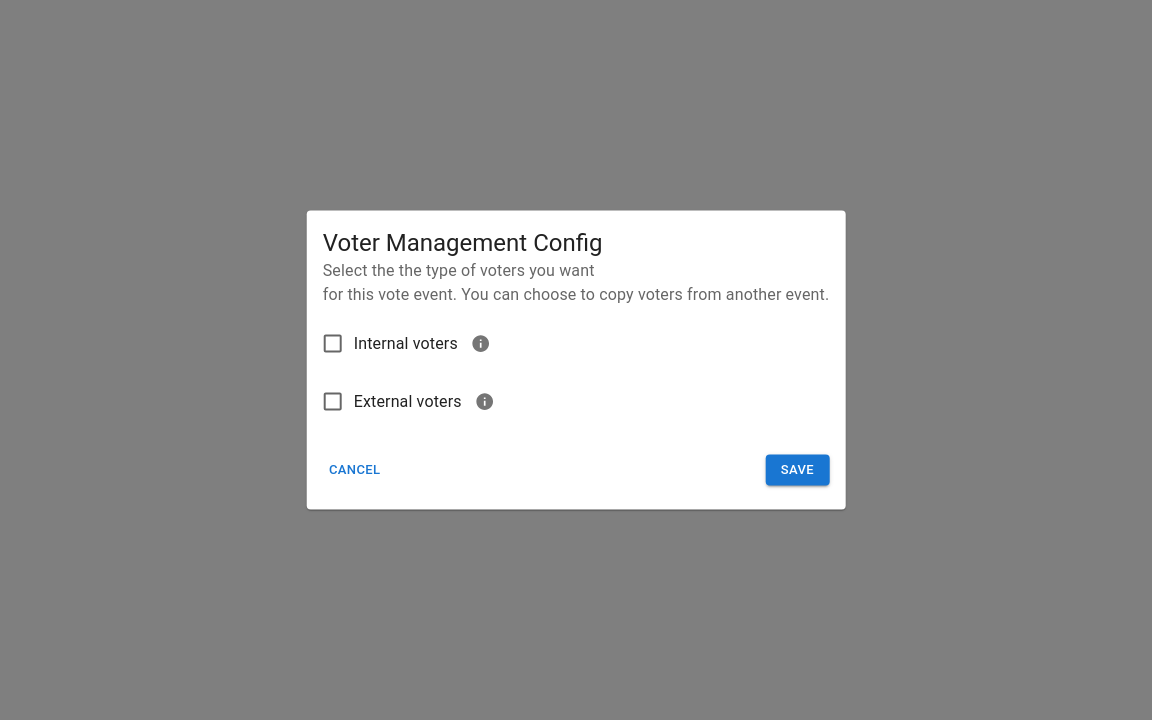
Test: <VoterManagementConfigModal /> › should hide and display additional options base on what is selected
Note: check if the additional options are displayed
Click the checkbox with id "internal-list-checkbox" at (333, 344), box left=312, top=323, right=354, bottom=365
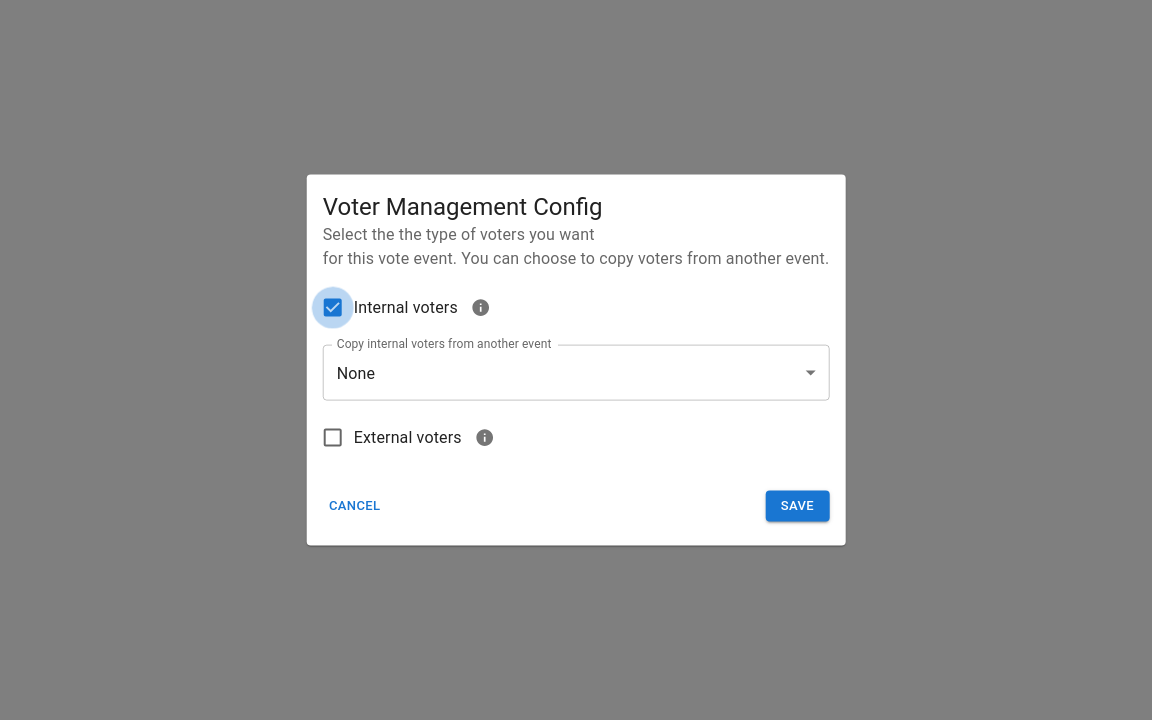
Expected: the dropdown with id "copy-internal-voters-dropdown" is shown, left=337, top=363, right=376, bottom=382
Click the checkbox with id "external-list-checkbox" at (333, 438), box left=312, top=417, right=354, bottom=459
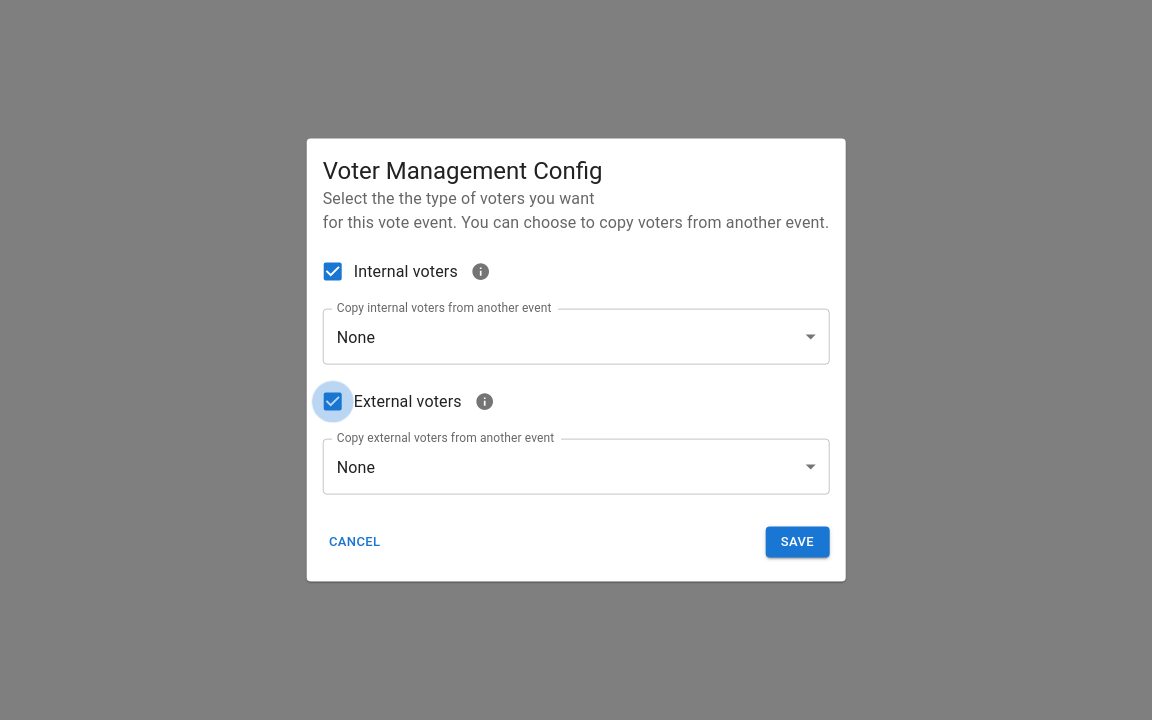
Expected: the dropdown with id "copy-external-voters-dropdown" is shown, left=337, top=457, right=376, bottom=476
